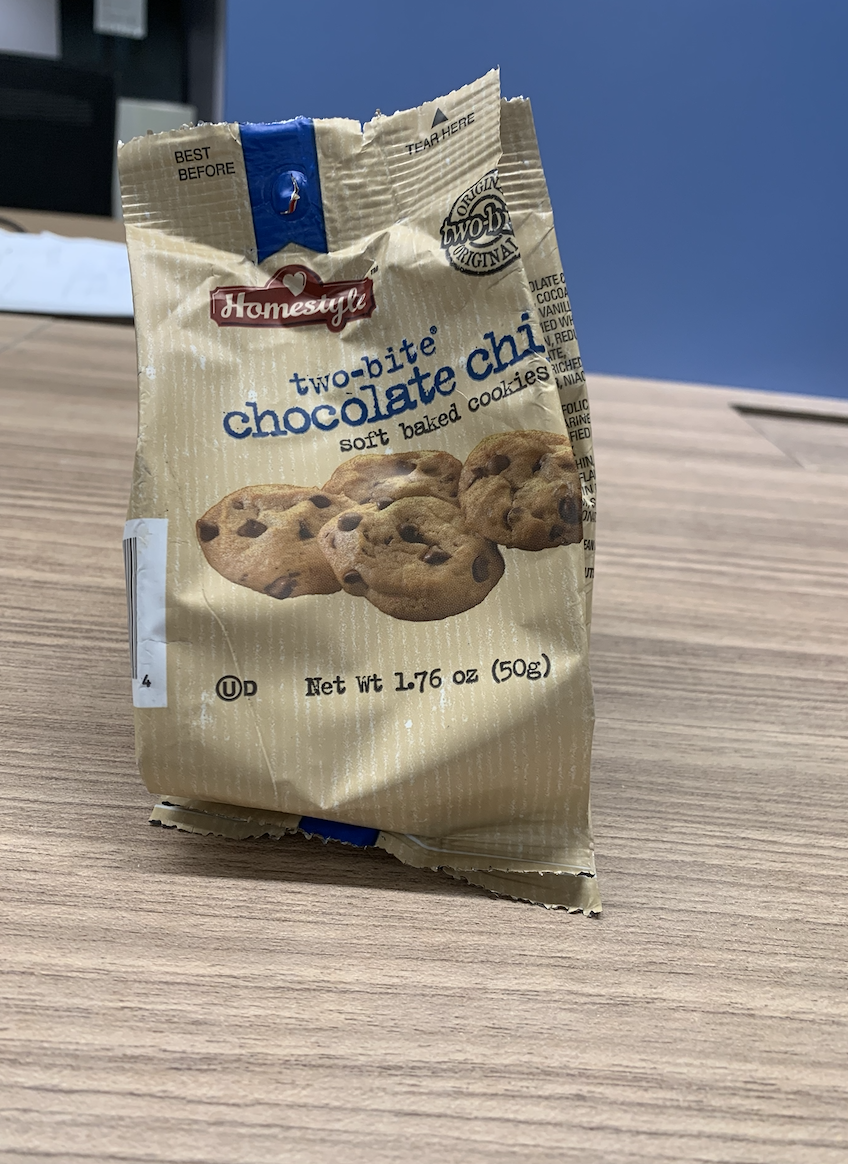cookies_1g-99g: (154, 136, 586, 852)
